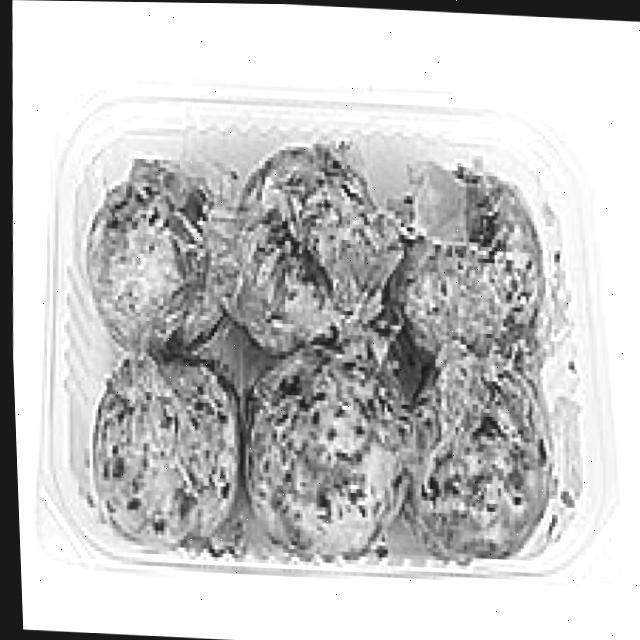炸货点心: (7, 57, 640, 611)
